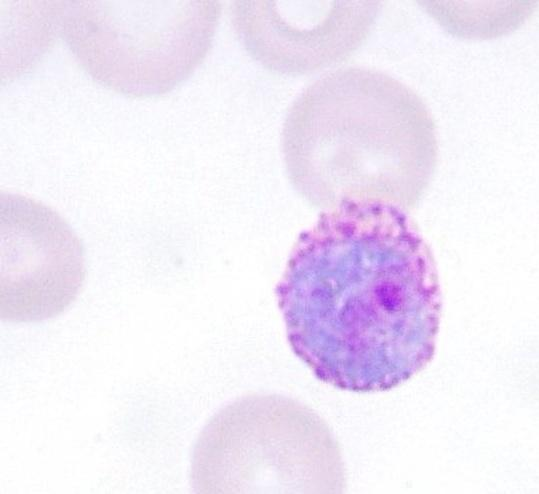Infected: (276, 194, 444, 391)
Uninfected: (281, 68, 437, 214)
